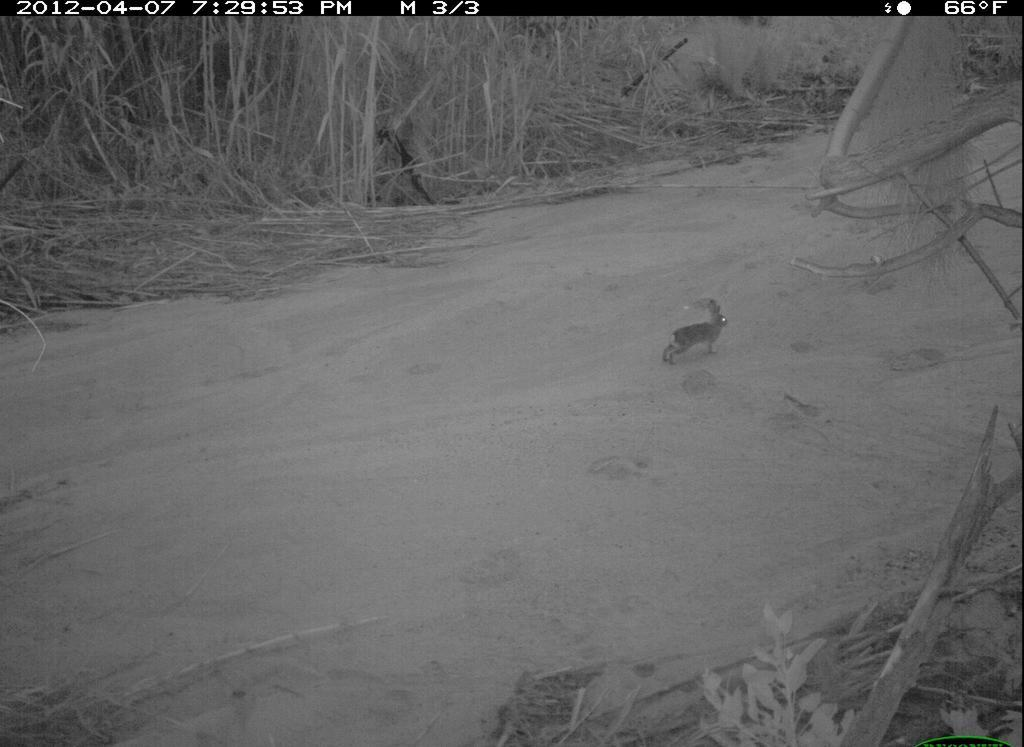rabbit: (653, 292, 738, 376)
